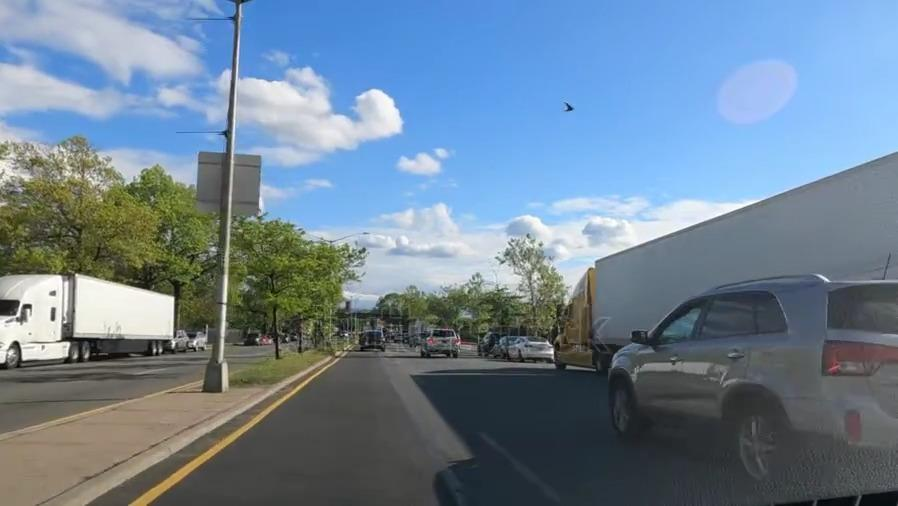bird: (561, 98, 577, 117)
car: (597, 288, 893, 474), (420, 326, 459, 358), (514, 335, 551, 360), (170, 328, 190, 353), (361, 330, 384, 351), (475, 329, 496, 351), (495, 334, 513, 356), (187, 331, 205, 350), (244, 332, 259, 348)
truck: (549, 191, 898, 372), (3, 272, 175, 365)
wheel: (725, 399, 787, 489), (607, 377, 642, 436)
